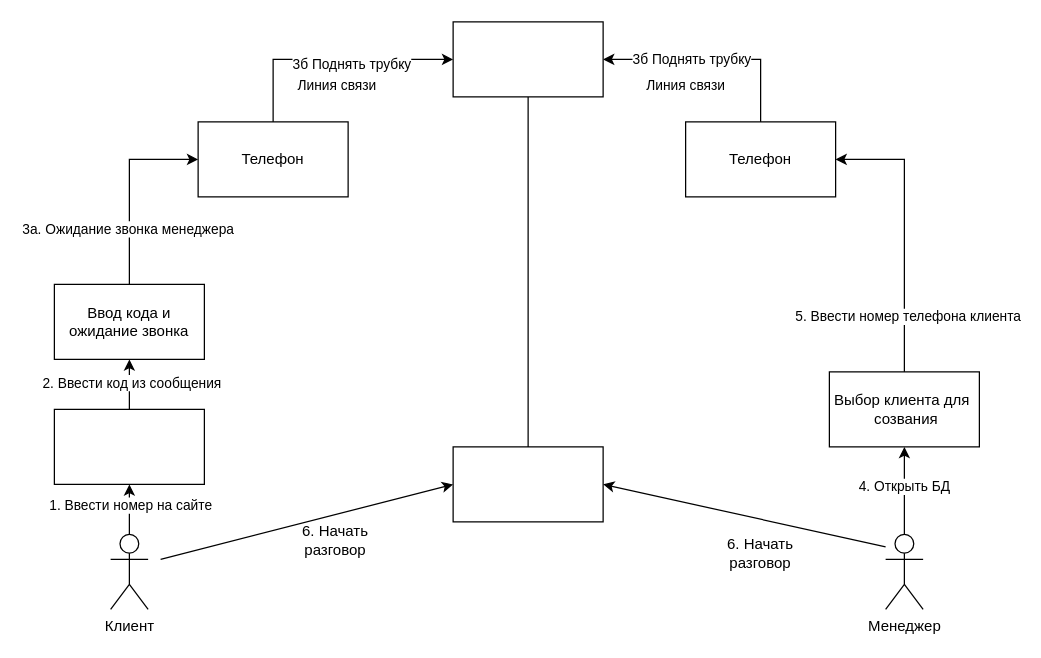
The diagram is 1041 pixels wide and 658 high, and some of its shapes have lost their labels. Each missing label, with the centre of its shape:
Ввод номера: (x=128, y=446)
Коммутатор: (x=527, y=59)
Консультация по телефону: (x=527, y=484)
